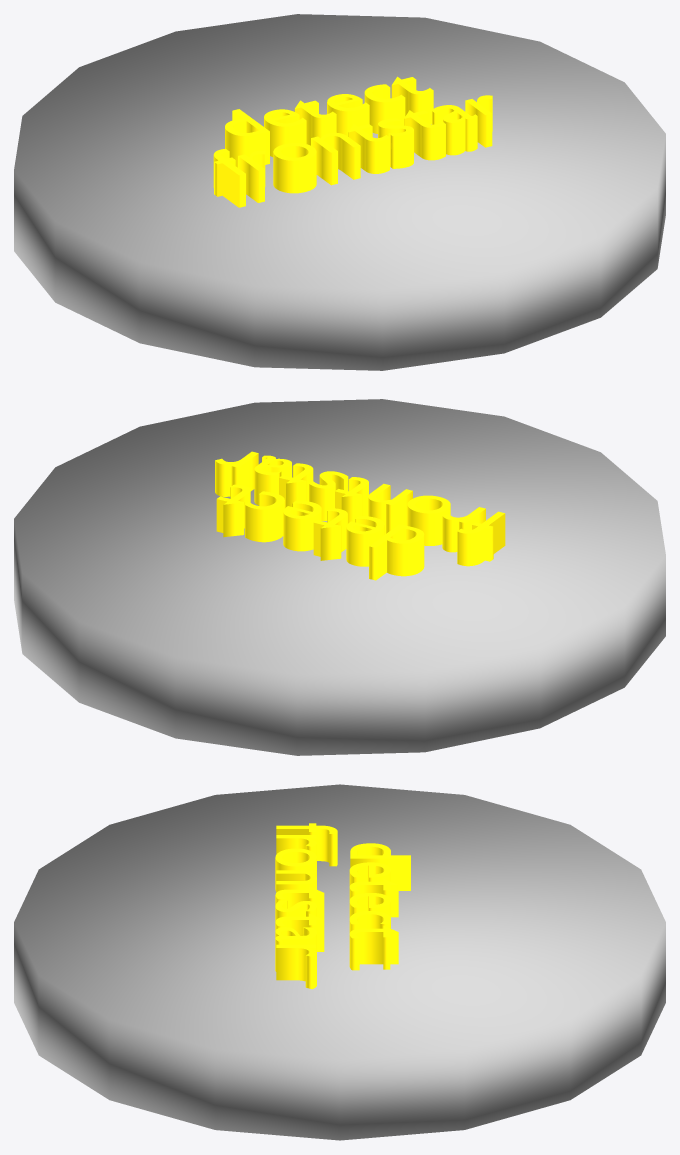
File: detectfrontstar.glb
3 views of the same model, one above another, from view 1: azimuth 30°, elevation 25°; view 2: azimuth 150°, elevation 25°; view 3: azimuth 270°, elevation 25° (orthographic).
Parts seen in each view (by area): view 1: Detect_Button, Frontstar_Text, Detect_Text; view 2: Detect_Button, Frontstar_Text, Detect_Text; view 3: Detect_Button, Frontstar_Text, Detect_Text.
Part boxes in pixels (bbox=[...]): Detect_Button: bbox=[14, 14, 665, 370]; Frontstar_Text: bbox=[213, 95, 492, 207]; Detect_Text: bbox=[225, 76, 433, 167]; Detect_Button: bbox=[14, 399, 665, 755]; Frontstar_Text: bbox=[215, 451, 505, 566]; Detect_Text: bbox=[216, 484, 424, 580]; Detect_Button: bbox=[14, 784, 665, 1140]; Frontstar_Text: bbox=[275, 823, 337, 989]; Detect_Text: bbox=[349, 843, 410, 970].
Bounding box in the file's own units: 4.4 × 0.84 × 4.4.
